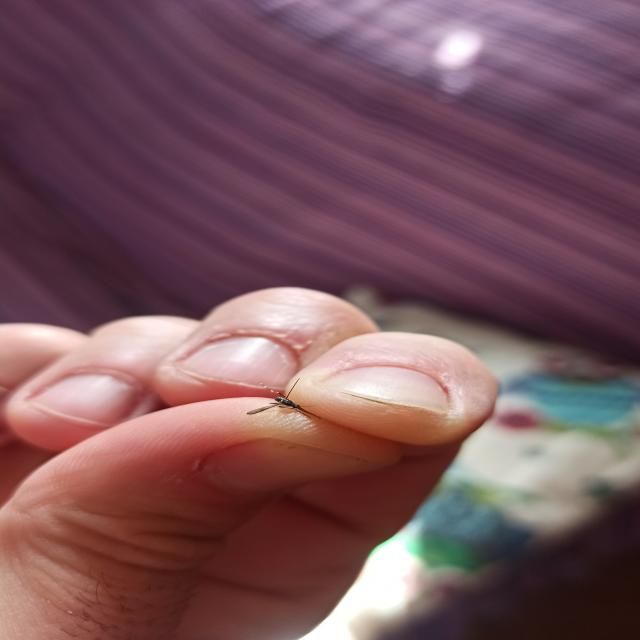albopictus: (241, 374, 321, 423)
